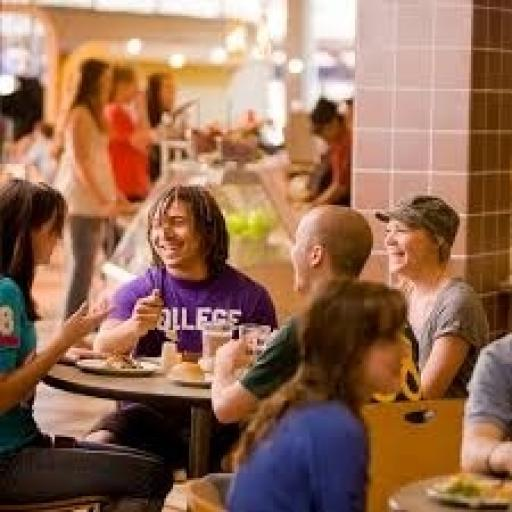eating: (0, 175, 173, 510), (373, 191, 492, 403)
